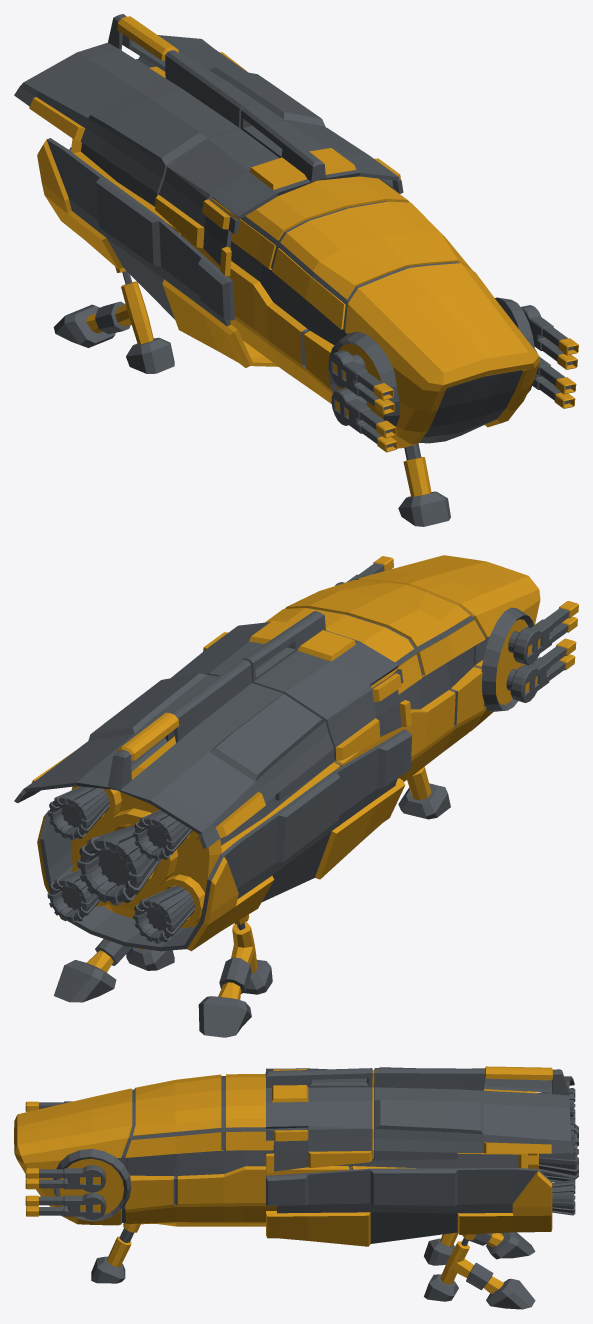
Rendered from Dropship_04_Yellow.fbx.
3 renders of one model, top to bottom at view 1: azimuth 30°, elevation 25°; view 2: azimuth 150°, elevation 25°; view 3: azimuth 270°, elevation 25°, orthographic. The views are drawn at different scales.
Visible parts, largest first — view 1: Dropship_04_Yellow; view 2: Dropship_04_Yellow; view 3: Dropship_04_Yellow.
Part boxes in pixels (x1,y1,x2,y2): Dropship_04_Yellow: [14, 14, 578, 526]; Dropship_04_Yellow: [14, 555, 578, 1037]; Dropship_04_Yellow: [14, 1066, 578, 1309].
Size of the model in its own units: 439 by 601 by 1458.
1 material, 1 textured.
